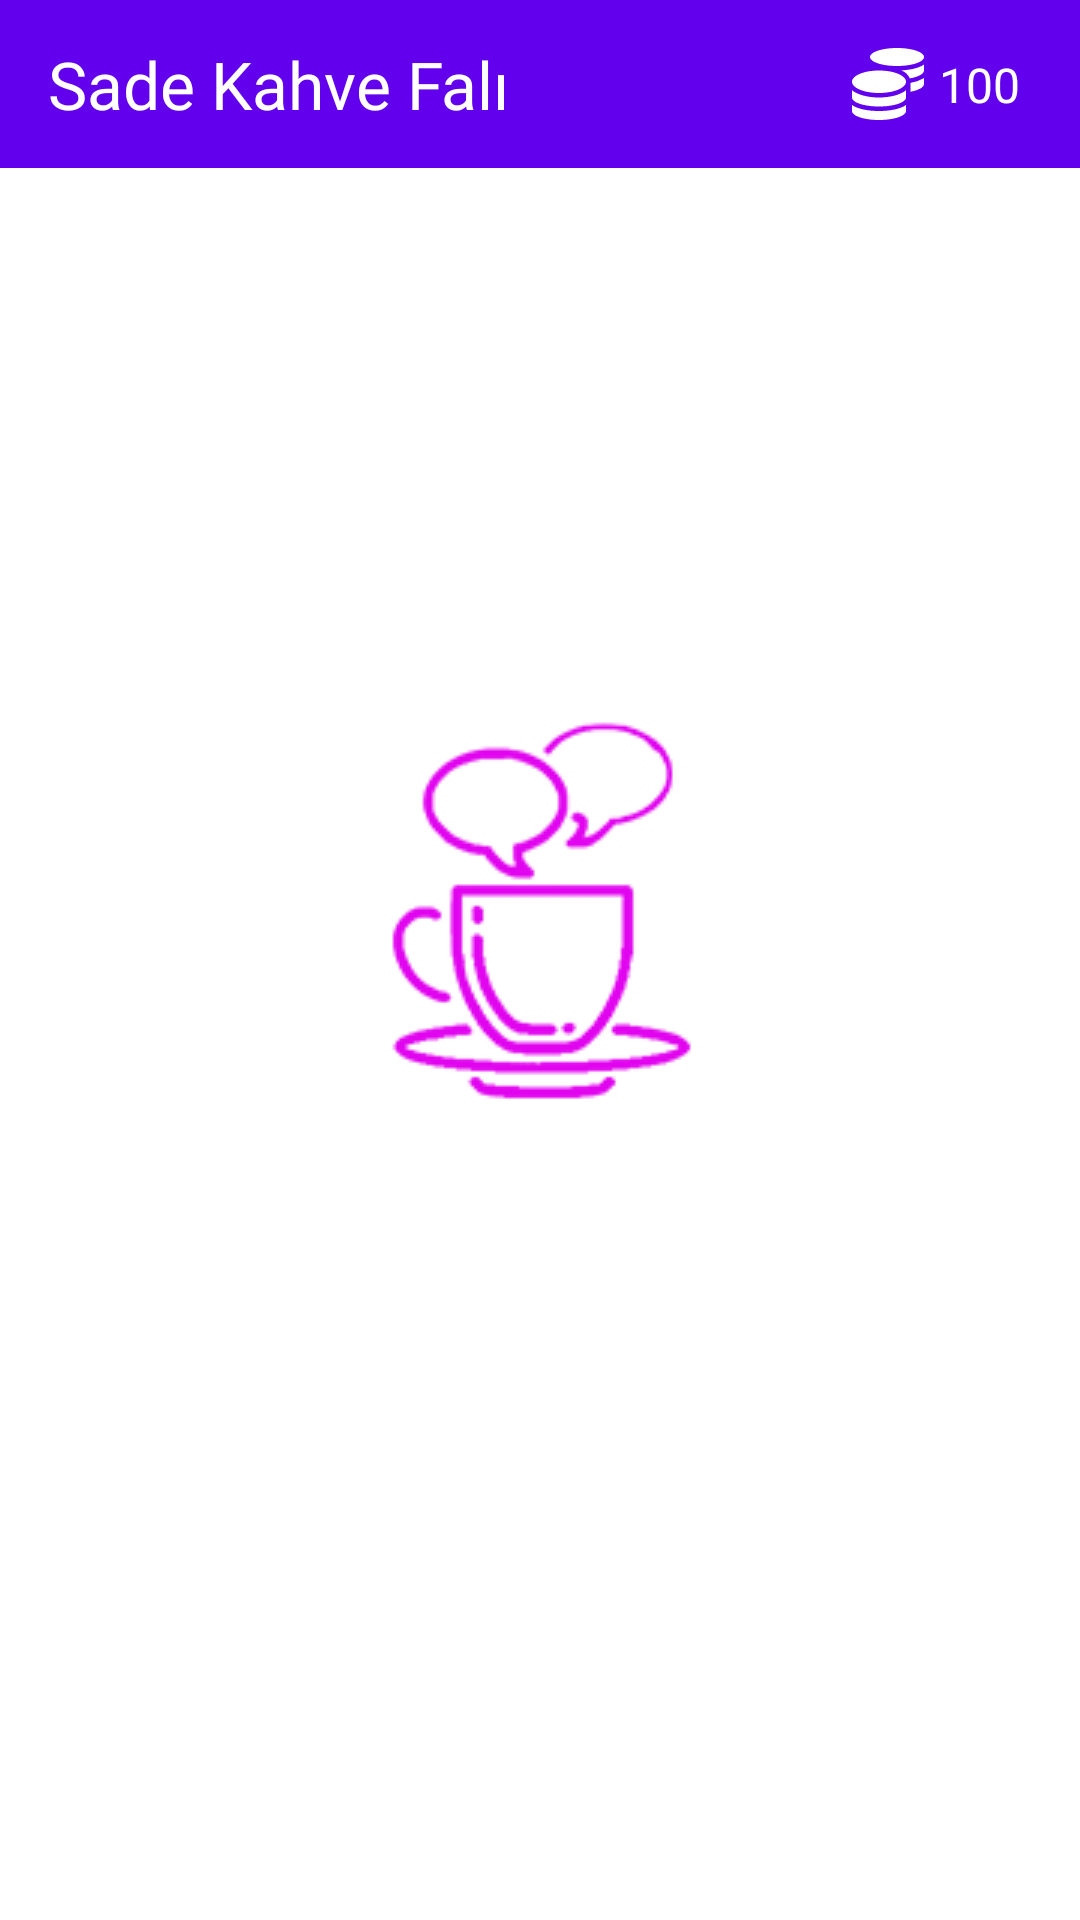

Named icons in this screenshot (1080×1920) and their centers, (x,y):
coin: (888,84)
